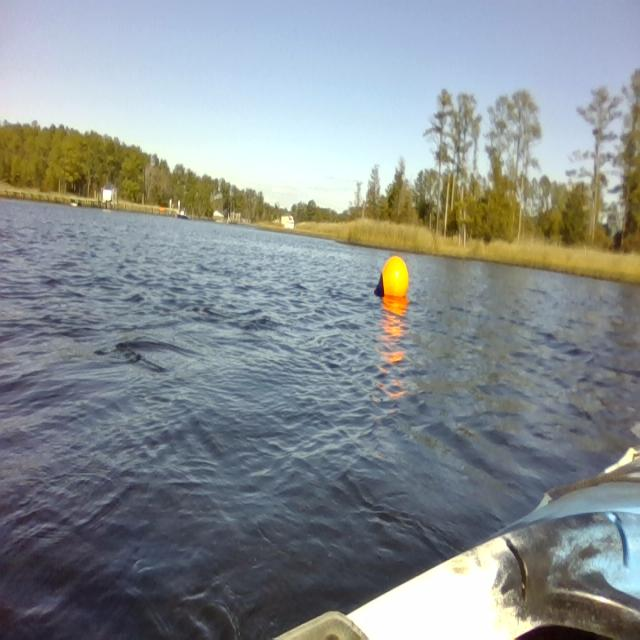Buoy: (370, 251, 414, 309)
